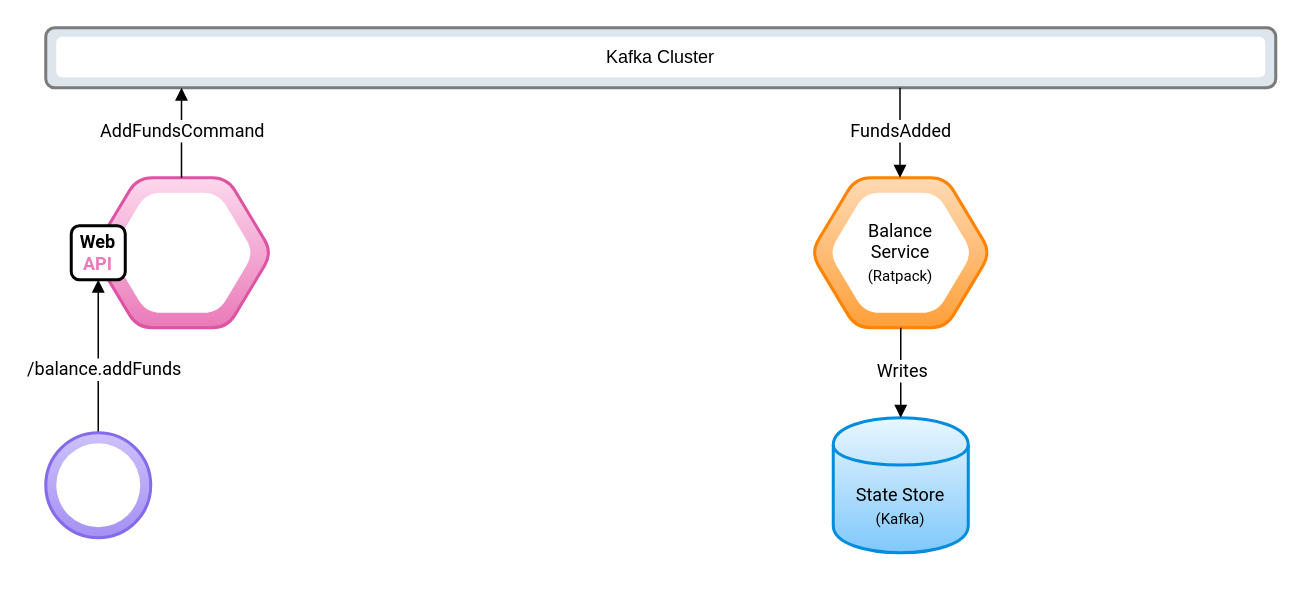
Image size: 1302x593. Some labels were removed from this diagram. The shapes that lost their labels are listed below. From the top down, each one's centre as x and y in pixels, then its label:
At point 182,252: "Command Service (Ratpack)".
At point 98,484: "Client".
